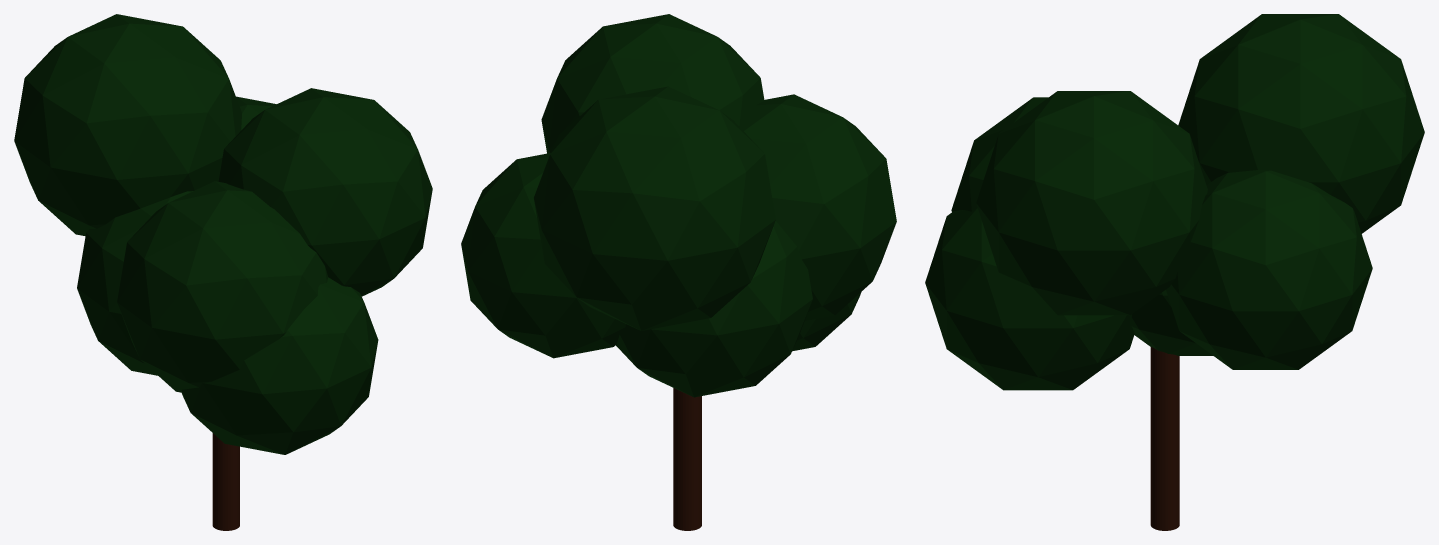
The model's file is Tree1.obj.
The picture shows the model from 3 angles, left to right: view 1: azimuth 30°, elevation 25°; view 2: azimuth 150°, elevation 25°; view 3: azimuth 270°, elevation 25°; orthographic projection. The views are drawn at different scales.
Visible parts, largest first — view 1: Cylinder.002; view 2: Cylinder.002; view 3: Cylinder.002.
Part boxes in pixels (bbox=[...]): Cylinder.002: bbox=[14, 14, 432, 530]; Cylinder.002: bbox=[461, 14, 896, 530]; Cylinder.002: bbox=[925, 14, 1424, 530].
Bounding box in the file's own units: 3.28 × 4.97 × 4.61.
